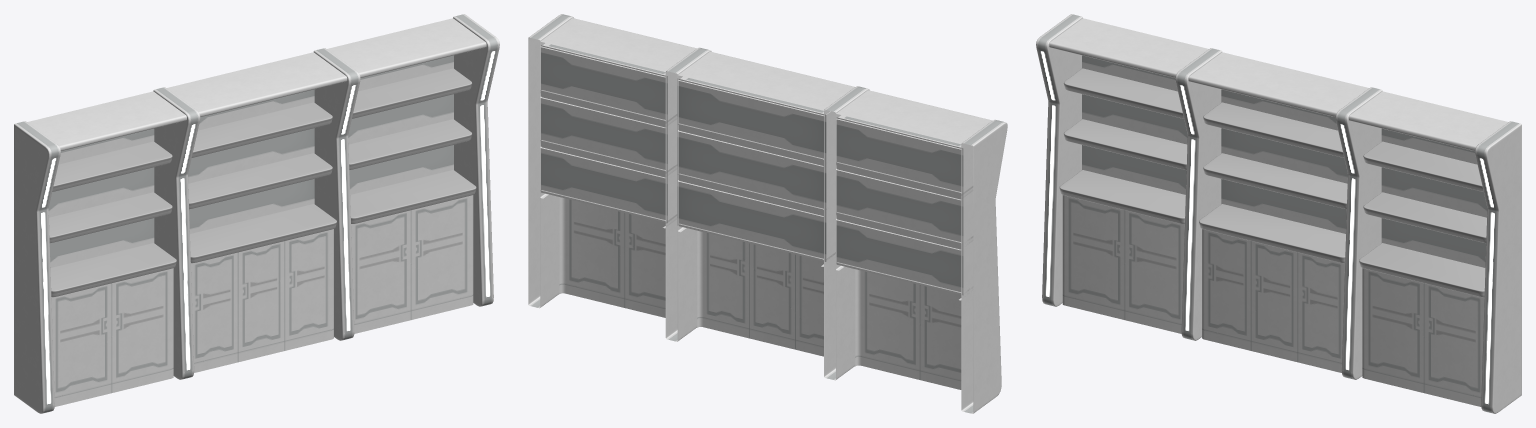
File: BarShelves01_2.FBX
The picture shows the model from 3 angles, left to right: view 1: azimuth 30°, elevation 25°; view 2: azimuth 150°, elevation 25°; view 3: azimuth 330°, elevation 25°; orthographic projection.
Parts seen in each view (by area): view 1: BarShelves01_2; view 2: BarShelves01_2; view 3: BarShelves01_2.
Boxes of the visible parts, x1,y1,x2,y2 form: BarShelves01_2: (14, 14, 499, 413); BarShelves01_2: (528, 14, 1007, 413); BarShelves01_2: (1036, 14, 1521, 413).
Size of what is drawn, in the model's own units: 4.34 by 2.5 by 0.5858.
